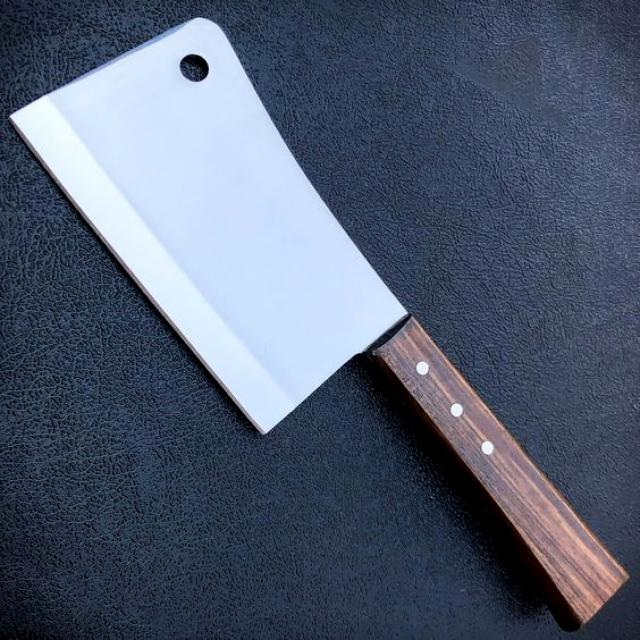cleaver: (21, 15, 635, 603)
